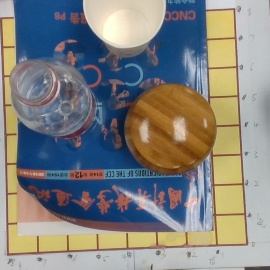bottle: (8, 59, 103, 142)
chess: (120, 83, 215, 176)
cup: (78, 1, 166, 60)
